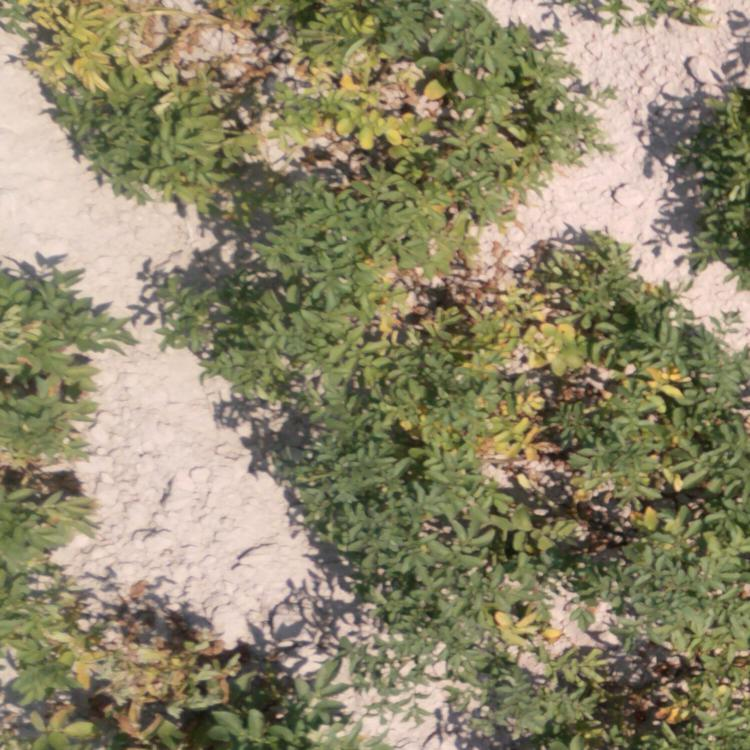healthy: (174, 230, 354, 444), (1, 264, 107, 574), (693, 330, 748, 750), (356, 452, 453, 647), (669, 35, 750, 257), (91, 140, 244, 202)
stressed: (1, 1, 595, 135), (461, 427, 682, 750), (1, 589, 340, 750), (363, 231, 661, 411), (316, 146, 572, 227)
